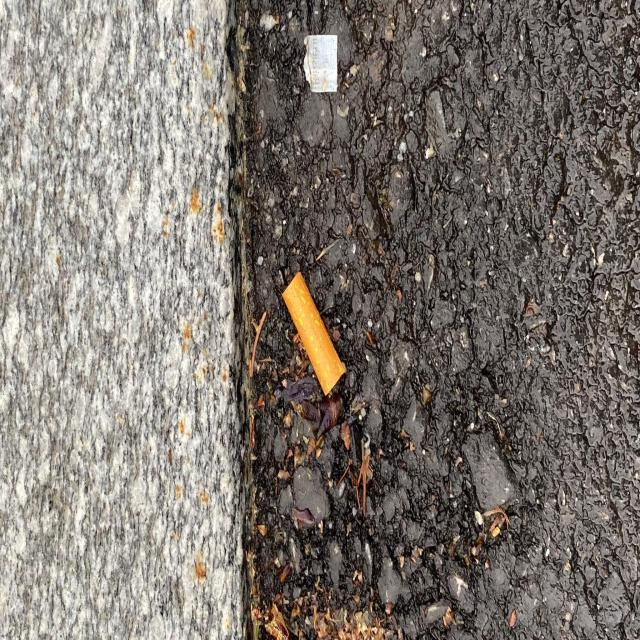other waste: (282, 269, 347, 396)
